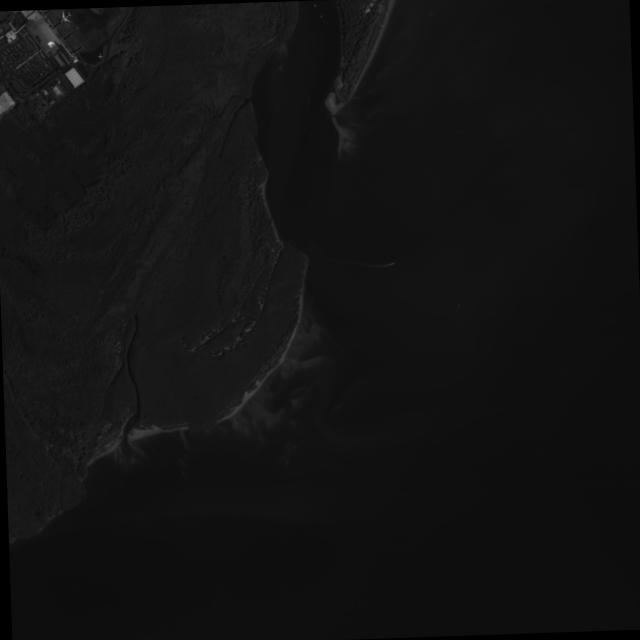plane: (54, 9, 72, 26), (95, 53, 102, 59)
storage-tank: (56, 80, 59, 84)
